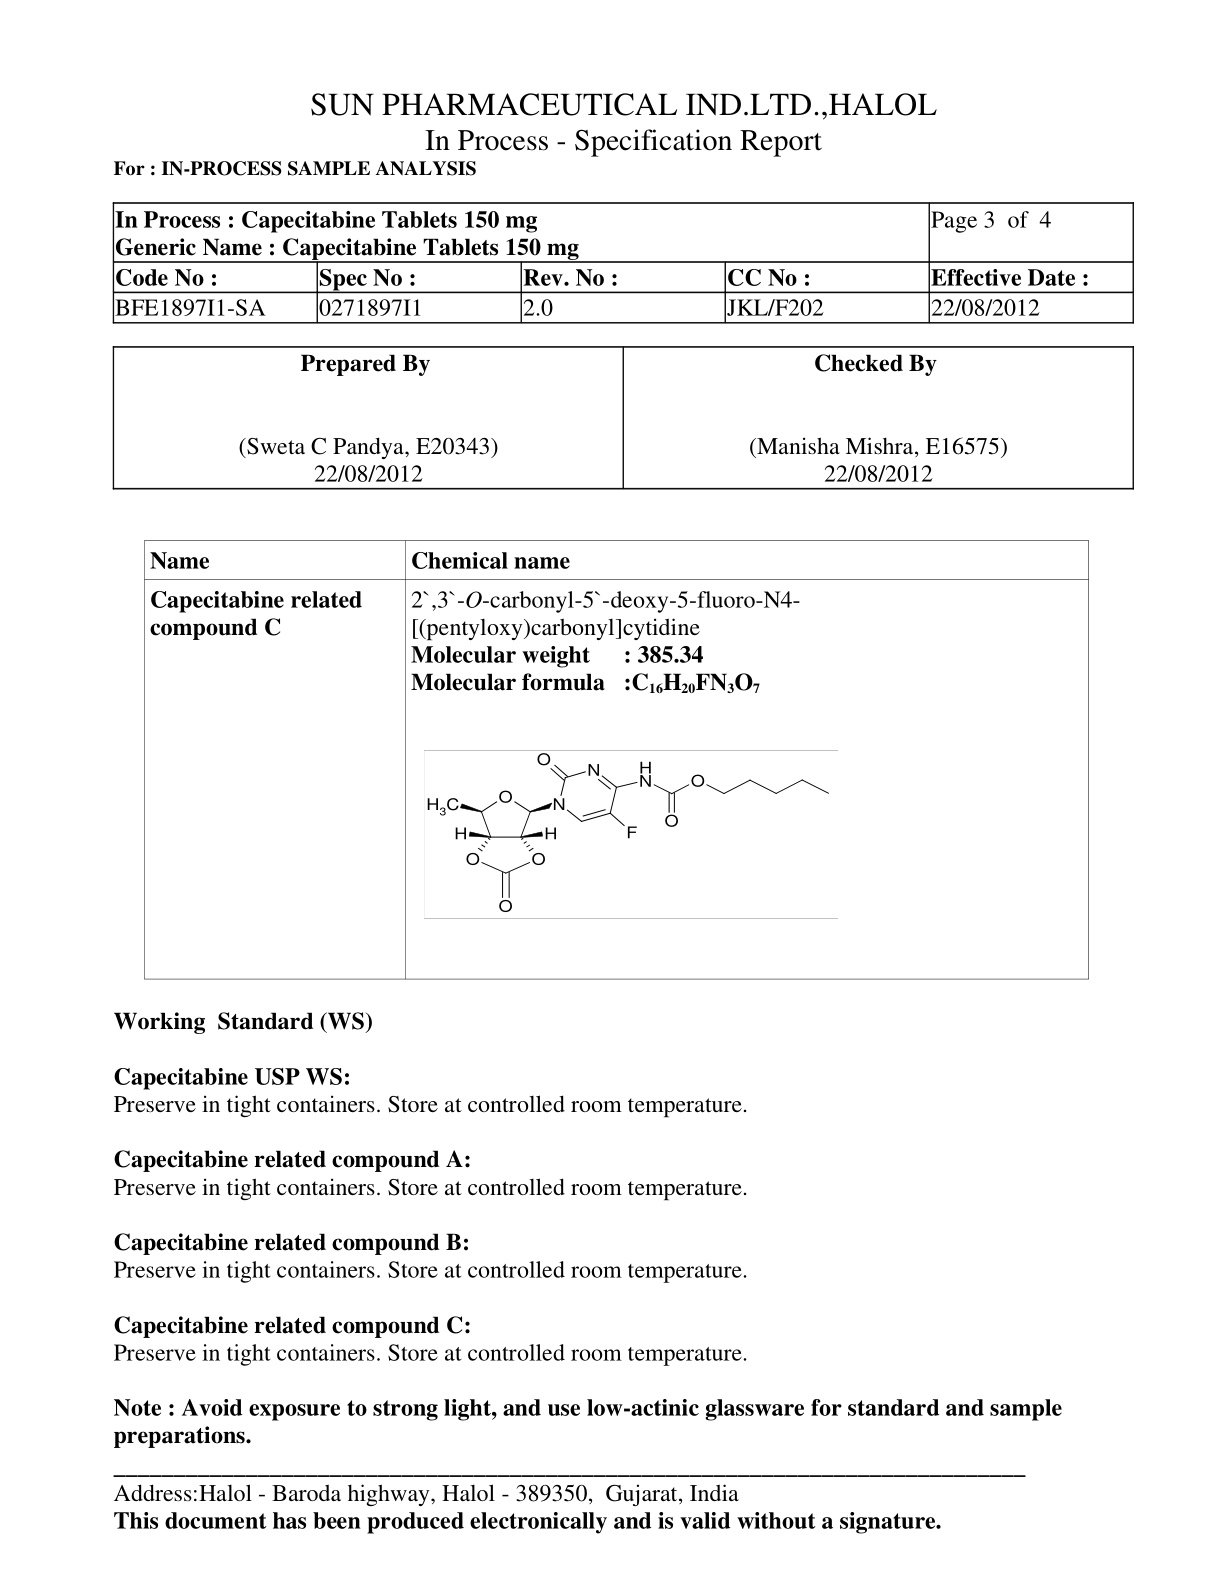full_lined: (143, 539, 1090, 981), (112, 345, 1135, 490)
merged_cells: (112, 201, 1135, 325)
